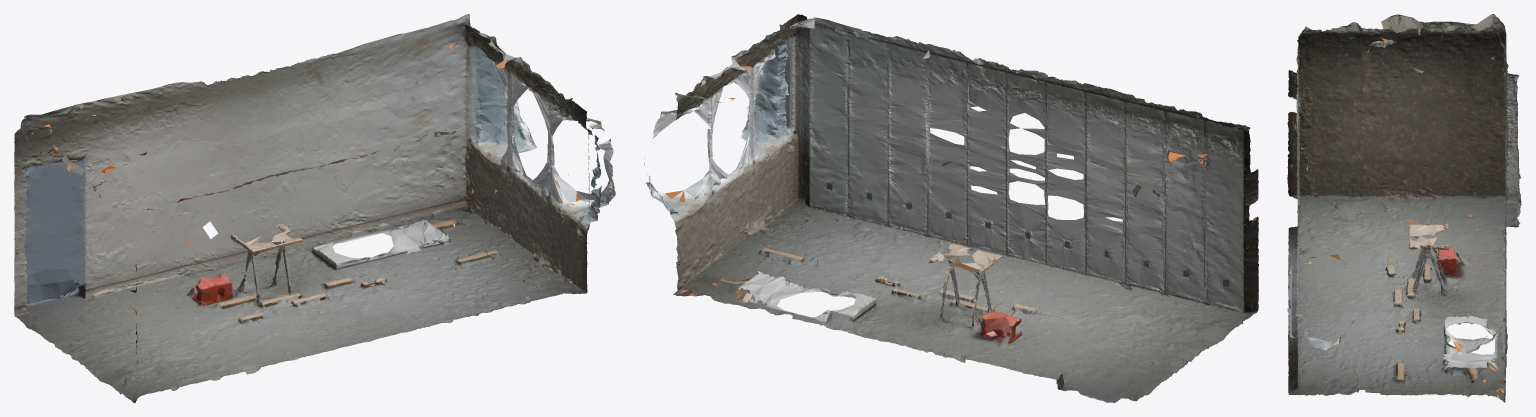
The picture shows the model from 3 angles, left to right: view 1: azimuth 30°, elevation 25°; view 2: azimuth 150°, elevation 25°; view 3: azimuth 270°, elevation 25°; orthographic projection. The views are drawn at different scales.
Visible parts, largest first — view 1: textured.obj; view 2: textured.obj; view 3: textured.obj.
Boxes of the visible parts, box(x1,y1,x2,y2) form: textured.obj: box(14, 14, 615, 402); textured.obj: box(644, 14, 1258, 402); textured.obj: box(1287, 14, 1521, 402).
Bounding box in the file's own units: 8.08 × 3.21 × 3.59.
1 material, 1 textured.
